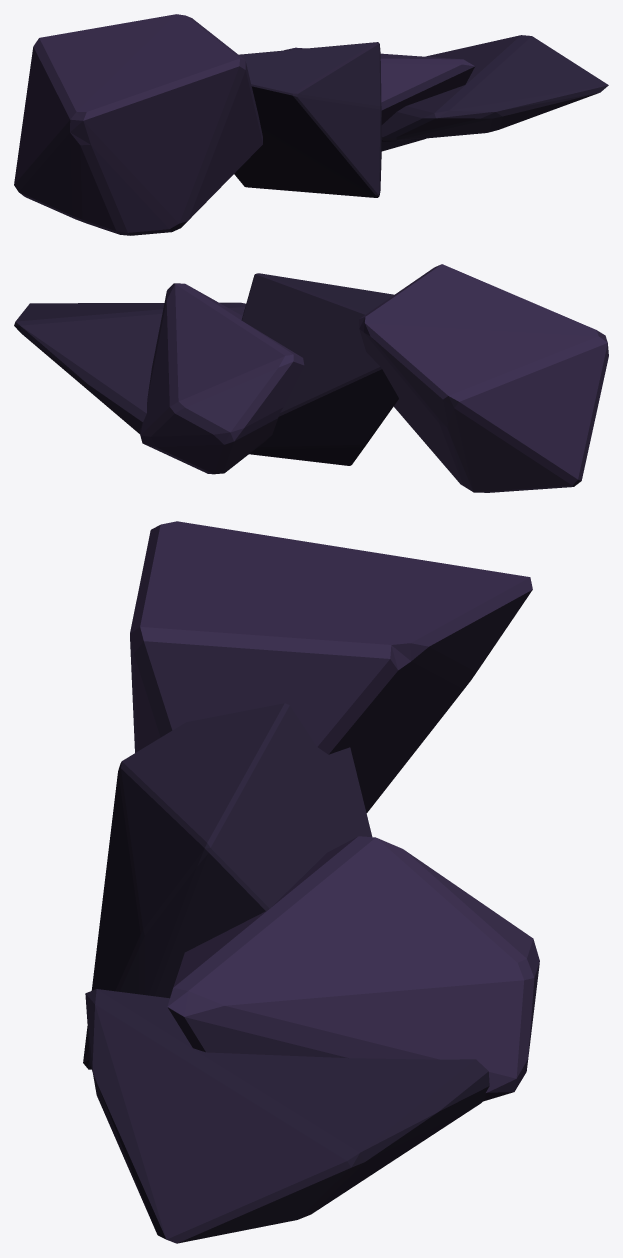
File: inc_umbral_rocha.fbx
3 renders of one model, top to bottom at view 1: azimuth 30°, elevation 25°; view 2: azimuth 150°, elevation 25°; view 3: azimuth 270°, elevation 25°, orthographic. The views are drawn at different scales.
Visible parts, largest first — view 1: inc_umbral_rocha; view 2: inc_umbral_rocha; view 3: inc_umbral_rocha.
Boxes of the visible parts, box(x1,y1,x2,y2) form: inc_umbral_rocha: box(14, 14, 608, 235); inc_umbral_rocha: box(14, 264, 608, 492); inc_umbral_rocha: box(83, 521, 539, 1243).
Size of the model in its own units: 7.07 by 2.07 by 2.54.
